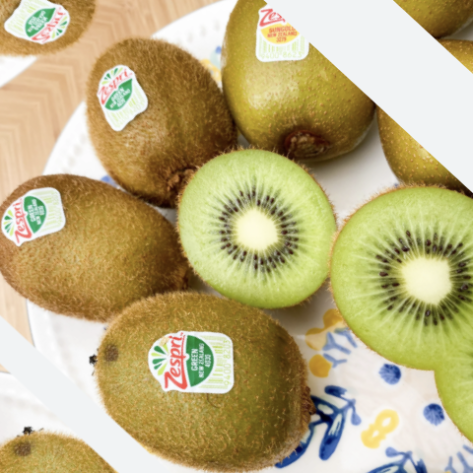kiwi: (44, 211, 364, 473), (34, 0, 279, 239), (0, 117, 218, 382)
